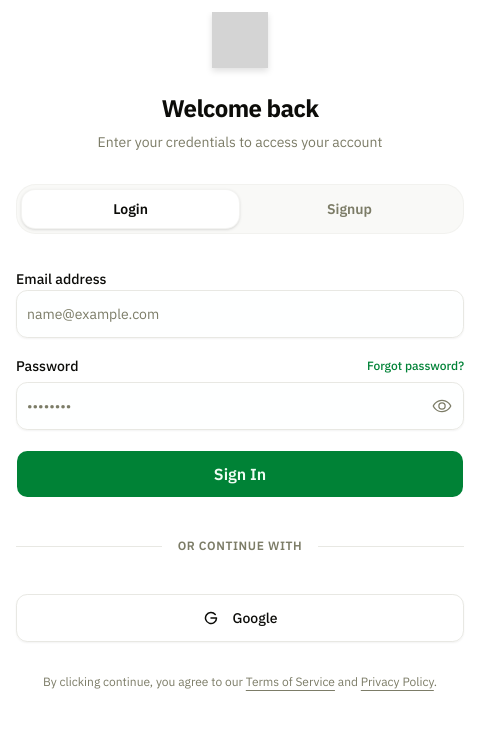
Test case: AuthForm Component › switches back to login mode from signup
Click the button "signup" at (350, 209), box left=240, top=189, right=459, bottom=229
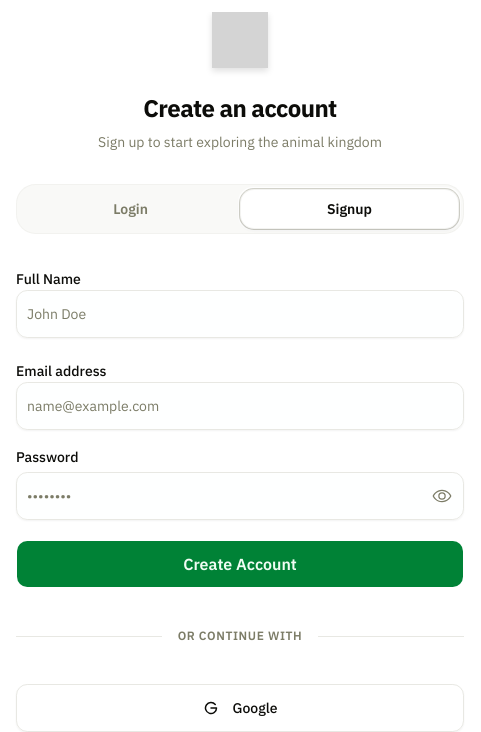
Result: the heading "Create an account" is shown at left=143, top=92, right=337, bottom=124
Click the button "login" at (130, 209), box left=21, top=189, right=240, bottom=229
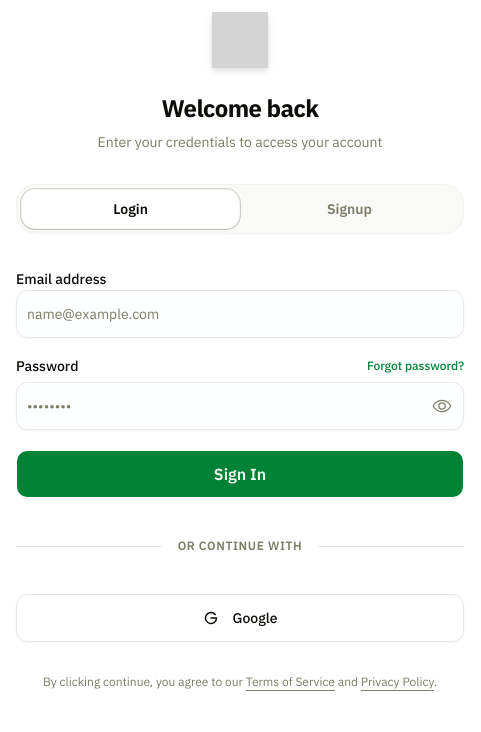
Result: the heading "Welcome back" is shown at left=161, top=92, right=319, bottom=124
